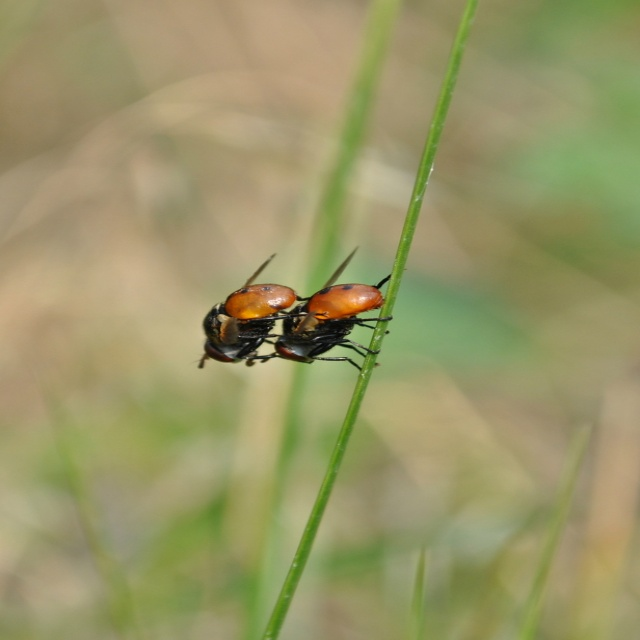Ladybug: (188, 251, 335, 368)
